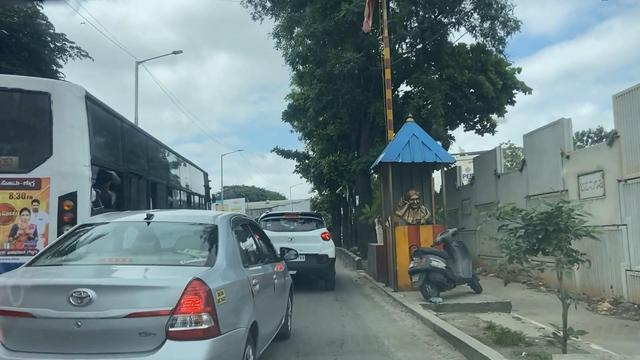LMV: (0, 212, 276, 360)
